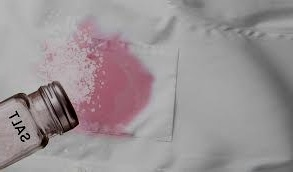wine: (94, 38, 147, 127), (76, 106, 126, 136)
